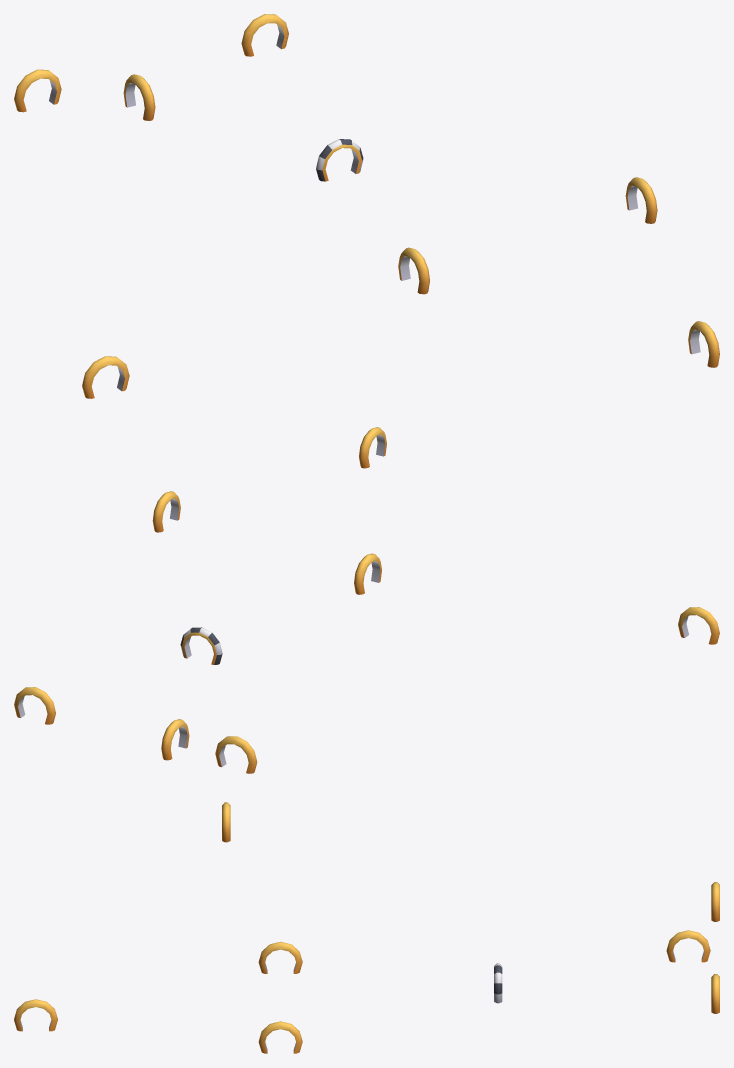
Rendered from gates.glb.
3 renders of one model, top to bottom at view 1: azimuth 30°, elevation 25°; view 2: azimuth 150°, elevation 25°; view 3: azimuth 270°, elevation 25°, orthographic. The views are drawn at different scales.
Parts seen in each view (by area): view 1: gate-3, gate-1, gate-2, gate-finish, gate-4, gate-0, gate-5, gate-6; view 2: gate-finish, gate-2, gate-3, gate-1, gate-6, gate-0, gate-5, gate-4; view 3: gate-0, gate-6, gate-4, gate-5.
Part boxes in pixels (box(x1,y1,x2,y2)): gate-3: box(82, 356, 129, 398); gate-1: box(241, 14, 288, 56); gate-2: box(14, 69, 61, 112); gate-finish: box(316, 139, 363, 181); gate-4: box(688, 321, 719, 367); gate-0: box(625, 177, 657, 223); gate-5: box(398, 247, 429, 294); gate-6: box(123, 74, 155, 120); gate-finish: box(180, 627, 222, 664); gate-2: box(215, 736, 257, 773); gate-3: box(678, 607, 719, 644); gate-1: box(14, 687, 55, 724); gate-6: box(161, 719, 189, 760); gate-0: box(152, 491, 180, 532); gate-5: box(354, 553, 381, 594); gate-4: box(359, 427, 386, 468); gate-0: box(258, 1021, 302, 1053); gate-6: box(666, 930, 710, 962); gate-4: box(14, 999, 57, 1031); gate-5: box(258, 941, 302, 973).
Bounding box in the file's own units: 41.93 × 3.42 × 51.93.
Materials: 2 (2 with a texture image).
